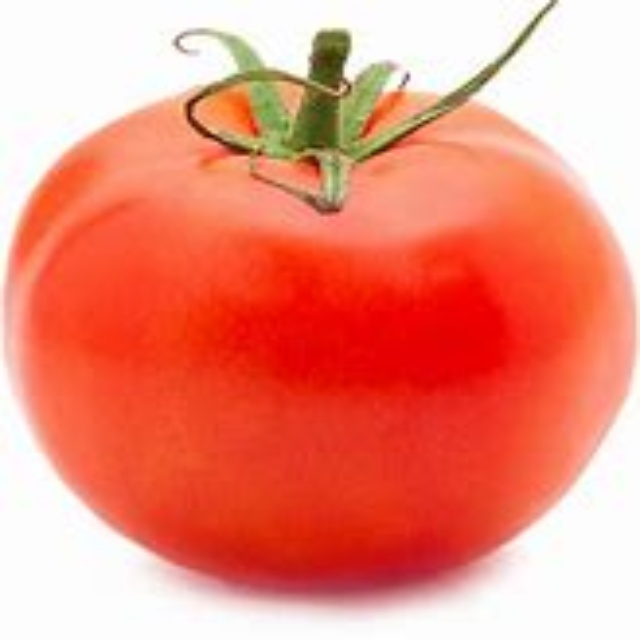tomato: (5, 25, 639, 601)
